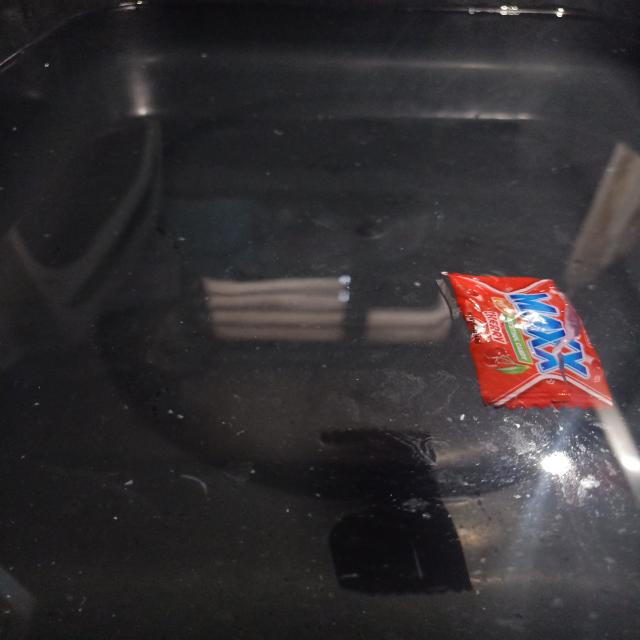Plastic Wrapper: (446, 273, 614, 412)
